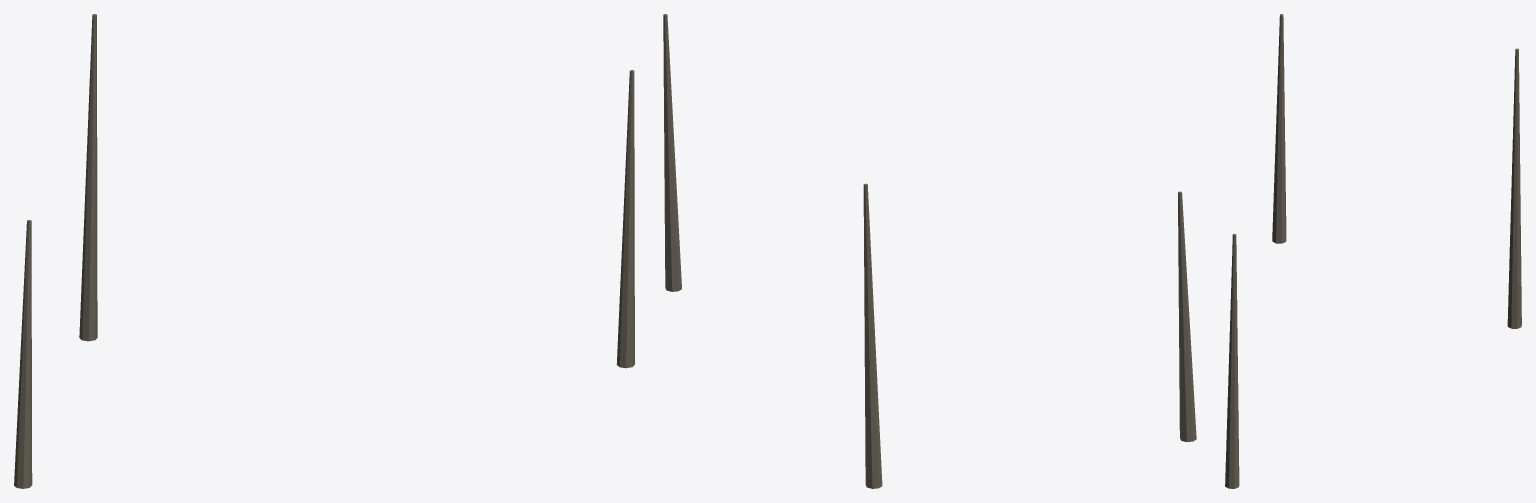
The model's file is xiyuan-vegetation-08-far.glb.
3 views of the same model, side by side, from view 1: azimuth 30°, elevation 25°; view 2: azimuth 150°, elevation 25°; view 3: azimuth 270°, elevation 25° (orthographic). The views are drawn at different scales.
Visible parts, largest first — view 1: vegetation willow trunk; view 2: vegetation willow trunk; view 3: vegetation willow trunk.
Part boxes in pixels (x1,y1,x2,y2): vegetation willow trunk: [14, 14, 634, 488]; vegetation willow trunk: [663, 14, 1196, 488]; vegetation willow trunk: [1225, 14, 1521, 488].
Bounding box in the file's own units: 21.31 × 11.01 × 10.59.
